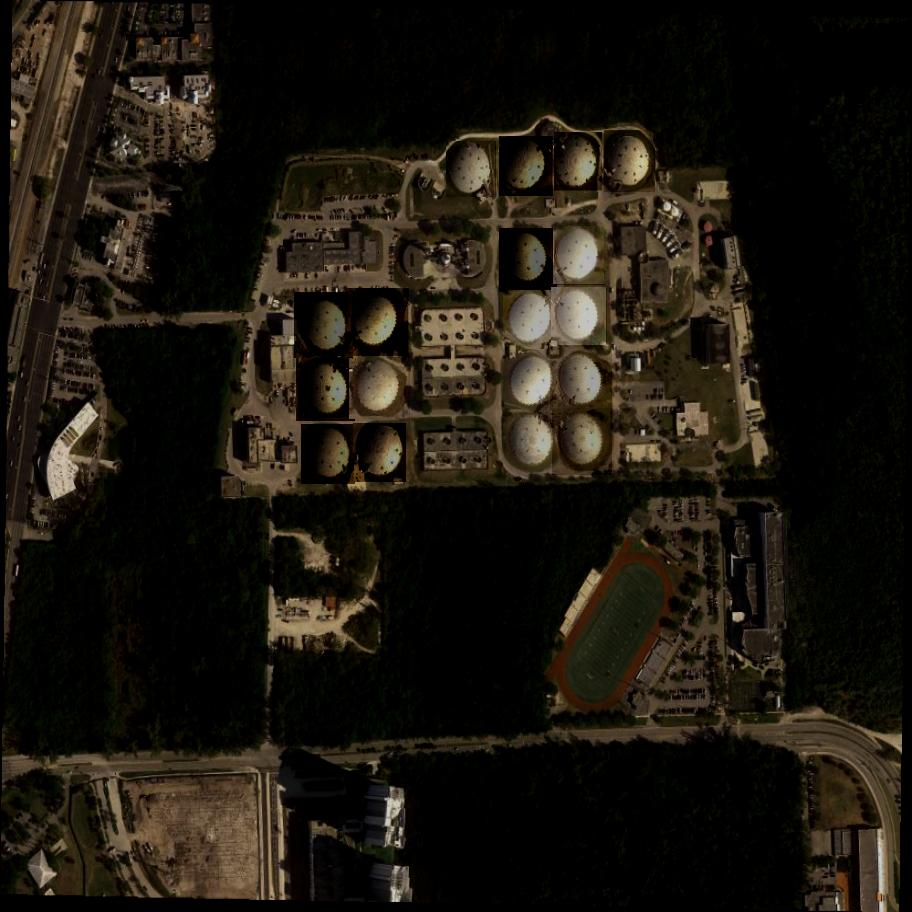storage-tank: (347, 288, 411, 360), (550, 347, 613, 415), (552, 409, 613, 476), (501, 350, 562, 416), (349, 356, 412, 419), (297, 357, 358, 422), (499, 228, 559, 293), (294, 292, 353, 358), (503, 410, 561, 475), (499, 136, 554, 197), (503, 290, 558, 351), (302, 424, 357, 484), (552, 287, 607, 347), (604, 131, 656, 194), (353, 424, 407, 483), (553, 227, 604, 286), (554, 132, 602, 192), (447, 141, 496, 198)
